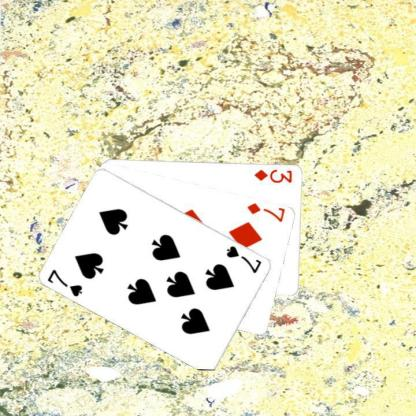3D: (252, 166, 293, 184)
7D: (244, 200, 286, 223)
7S: (223, 242, 264, 274), (45, 266, 84, 298)
